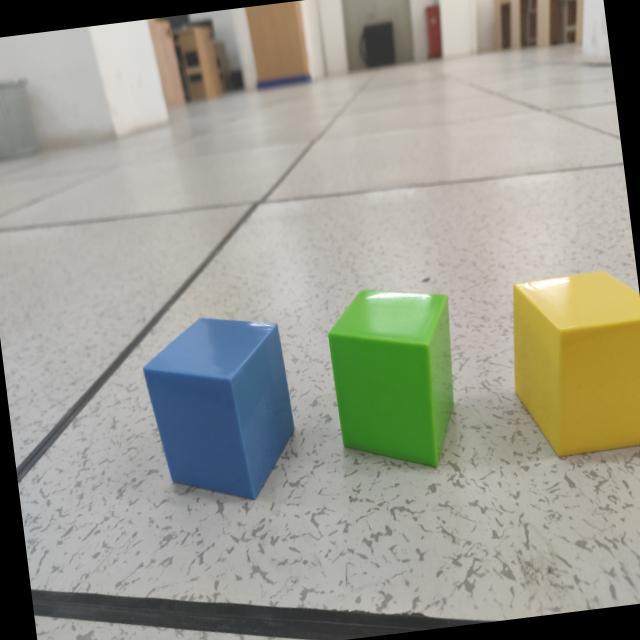blue: (142, 318, 295, 502)
green: (327, 292, 453, 469)
yellow: (513, 271, 640, 459)
